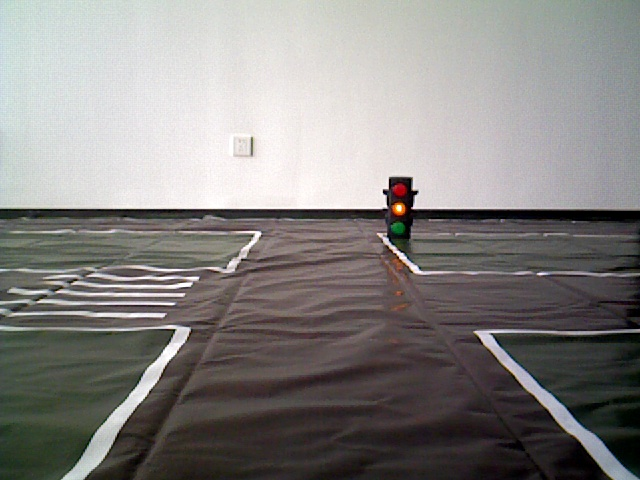yellow: (386, 179, 412, 243)
